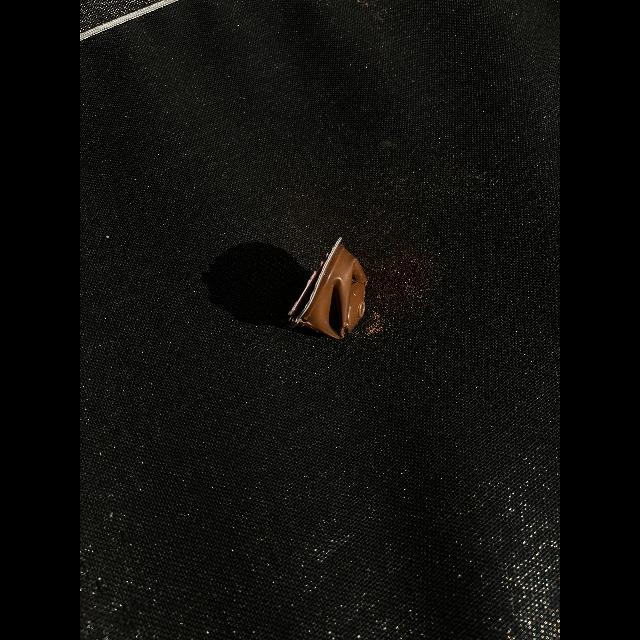damaged_capsule: (280, 228, 380, 346)
